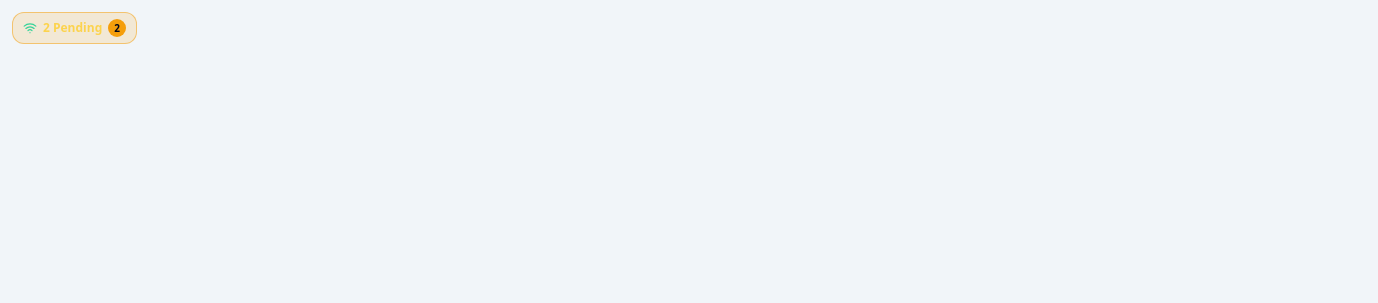
Test: Offline-First Network Detection & Sync UI › toggles Manual Offline Mode cleanly across header status control
Later steps or results of the test are not shown.
Expected: the text "2 Pending" is shown, [43, 20, 102, 36]
Note: Open popover and enable Fast Offline Mode
Click the button "2 Pending 2".
click(75, 28)  # box [12, 12, 137, 44]
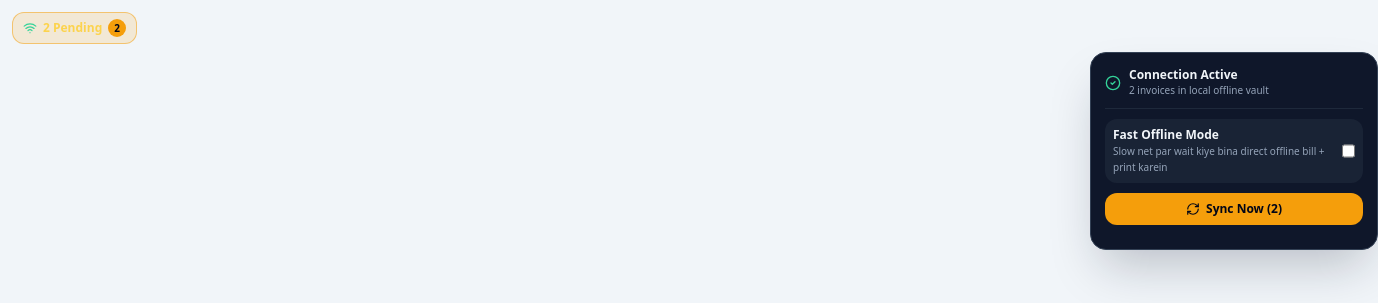
Click the checkbox.
click(1348, 151)  # box [1342, 143, 1355, 159]
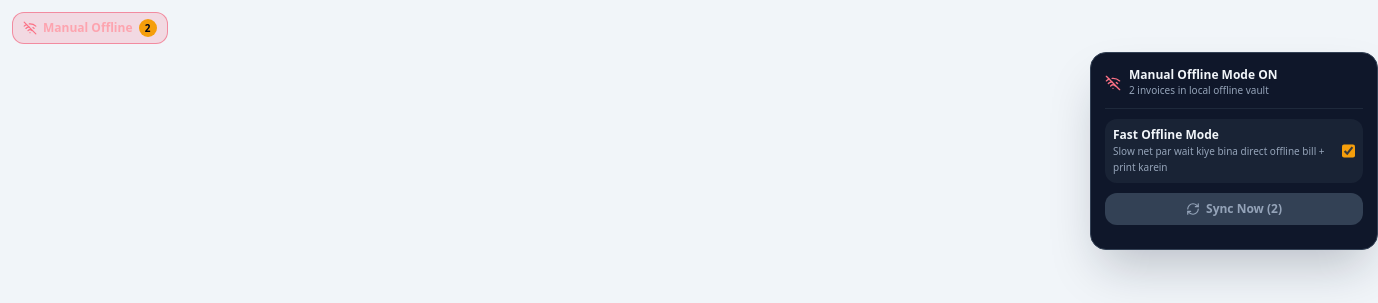
Result: the text "Manual Offline" is shown at [43, 20, 132, 36]
